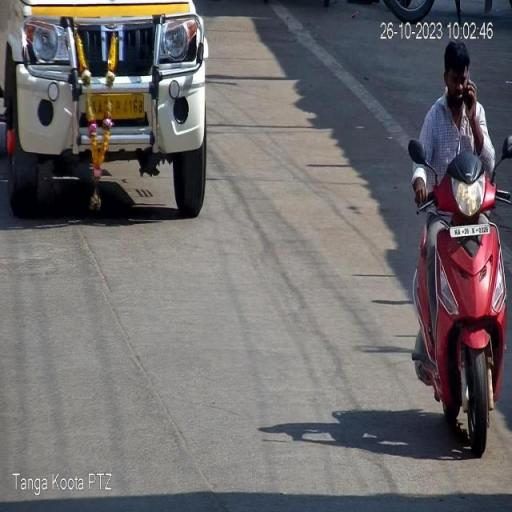using mobile: (464, 63, 478, 112)
